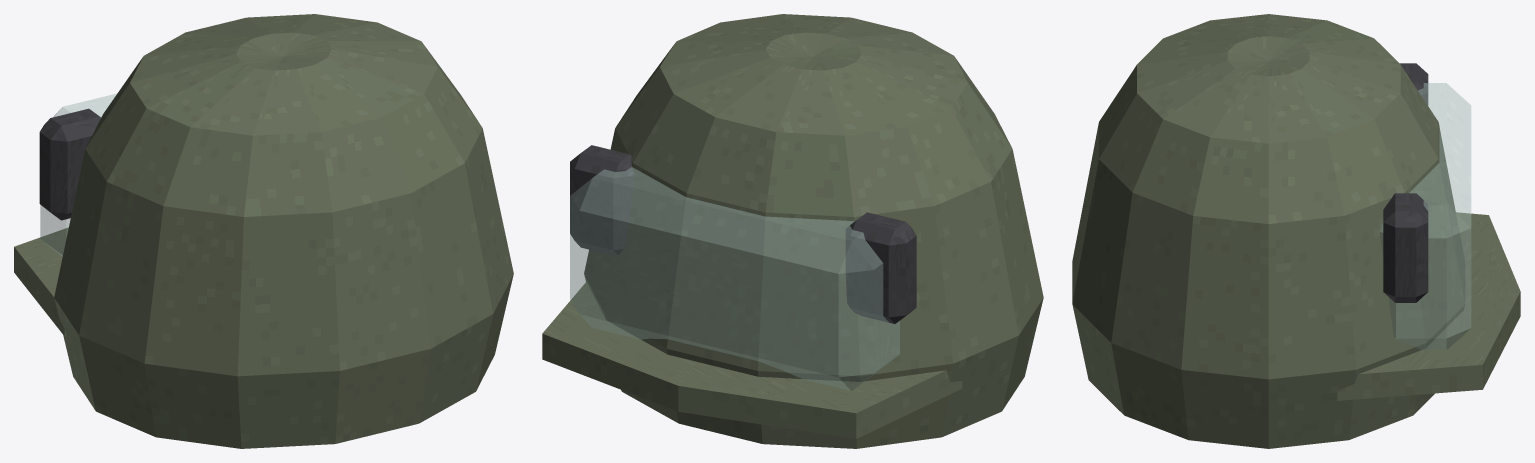
The model's file is helmet_eod.glb.
The picture shows the model from 3 angles, left to right: view 1: azimuth 30°, elevation 25°; view 2: azimuth 150°, elevation 25°; view 3: azimuth 270°, elevation 25°; orthographic projection. The views are drawn at different scales.
Parts seen in each view (by area): view 1: block_helmet shell, block_helmet side controls, block_front brim, block_armored face visor; view 2: block_helmet shell, block_armored face visor, block_front brim, block_helmet side controls (×2); view 3: block_helmet shell, block_front brim, block_armored face visor, block_helmet side controls (×2).
Boxes of the visible parts, left/top/right/bottom form: block_helmet shell: left=54, top=14, right=513, bottom=448; block_helmet side controls: left=39, top=108, right=100, bottom=220; block_front brim: left=14, top=227, right=68, bottom=336; block_armored face visor: left=40, top=93, right=116, bottom=256; block_helmet shell: left=584, top=14, right=1043, bottom=448; block_armored face visor: left=570, top=167, right=899, bottom=390; block_front brim: left=542, top=282, right=962, bottom=438; block_helmet side controls (×2): left=570, top=145, right=916, bottom=323; block_helmet shell: left=1072, top=14, right=1465, bottom=448; block_front brim: left=1337, top=212, right=1520, bottom=400; block_armored face visor: left=1380, top=83, right=1471, bottom=350; block_helmet side controls (×2): left=1383, top=63, right=1428, bottom=302.
Bounding box in the file's own units: 0.408 × 0.2988 × 0.3994.
Materials: 2 (2 with a texture image).
